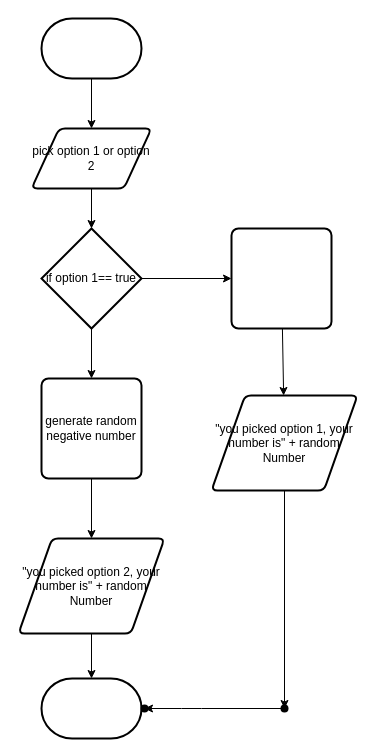
Some shapes in this 375 by 756 pixel diagram are drawn without their labels. The centre of each missing label's shape, as x and y in pixels:
"generate random positive number" belongs at pixel 281 278.
"start" belongs at pixel 91 48.
"stop" belongs at pixel 91 708.
